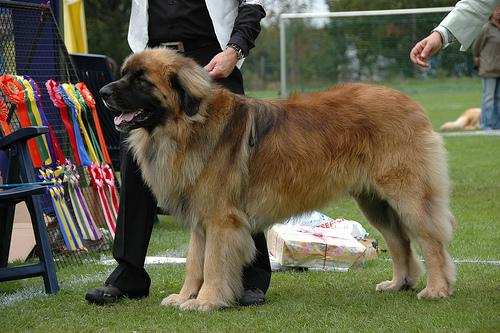dog-leonberger: (98, 46, 204, 132)
